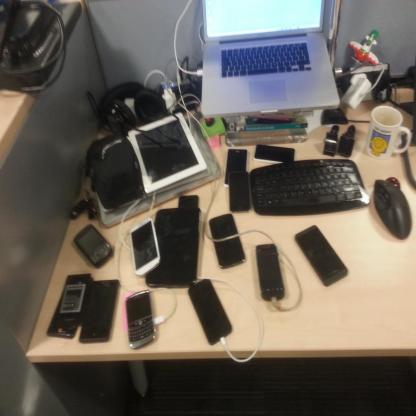board: (200, 0, 340, 118)
